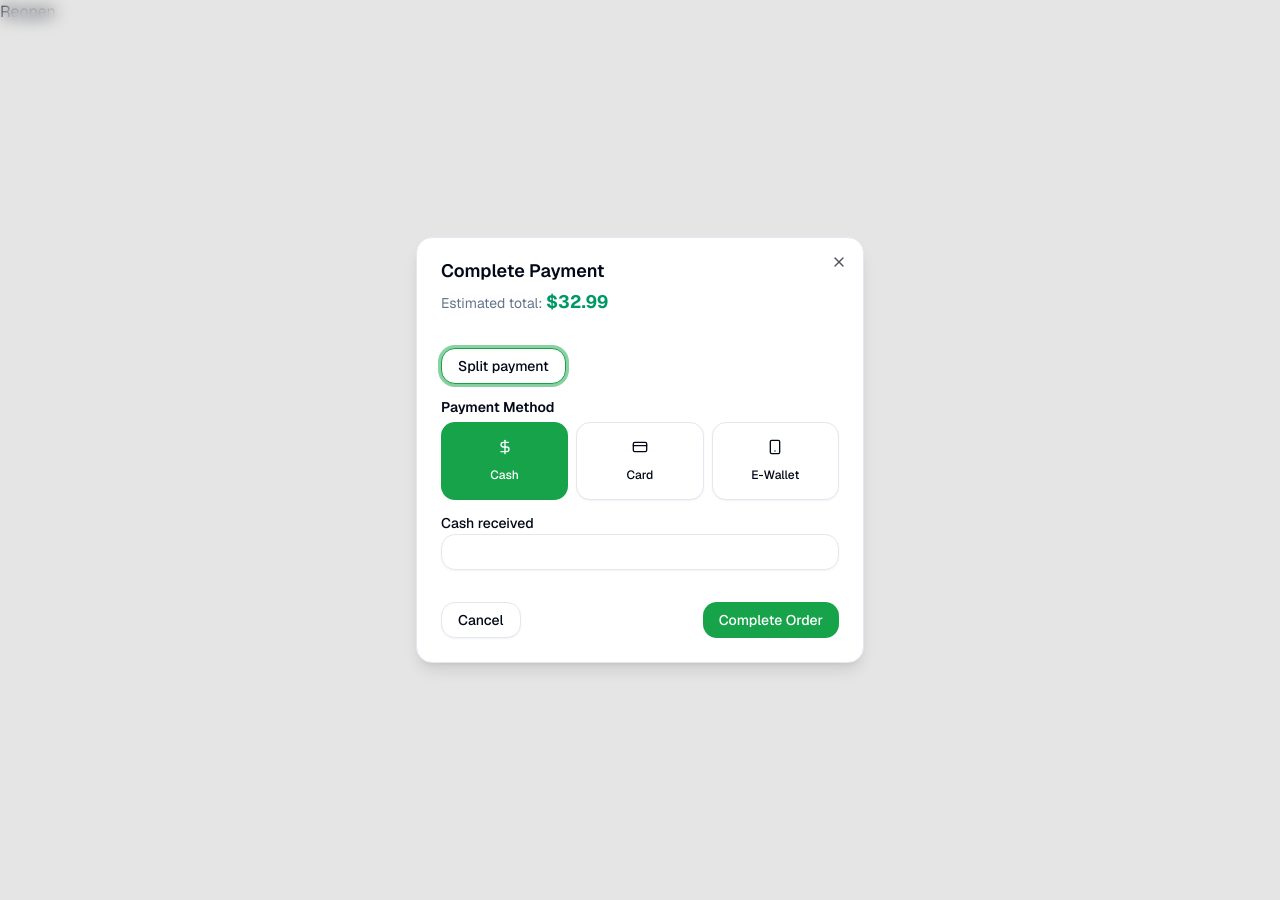
Test: PaymentDialog — split payment › changing the second method also clears received and the split amounts, like changing the first
Click the button "Split payment" at (503, 366), box [441,348,566,384]
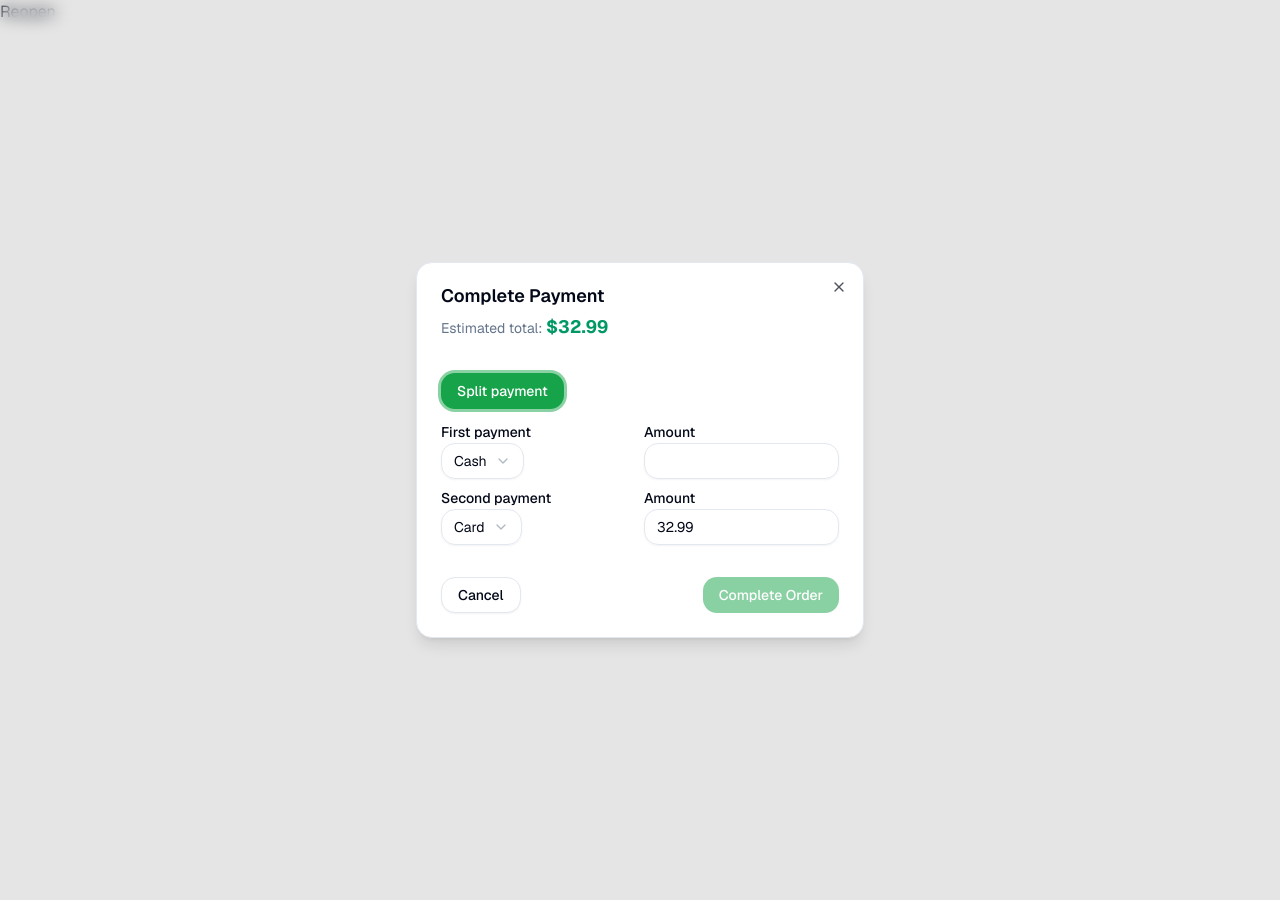
Type "10" into the field named "First payment Amount" at (742, 461), box [644,443,839,479]
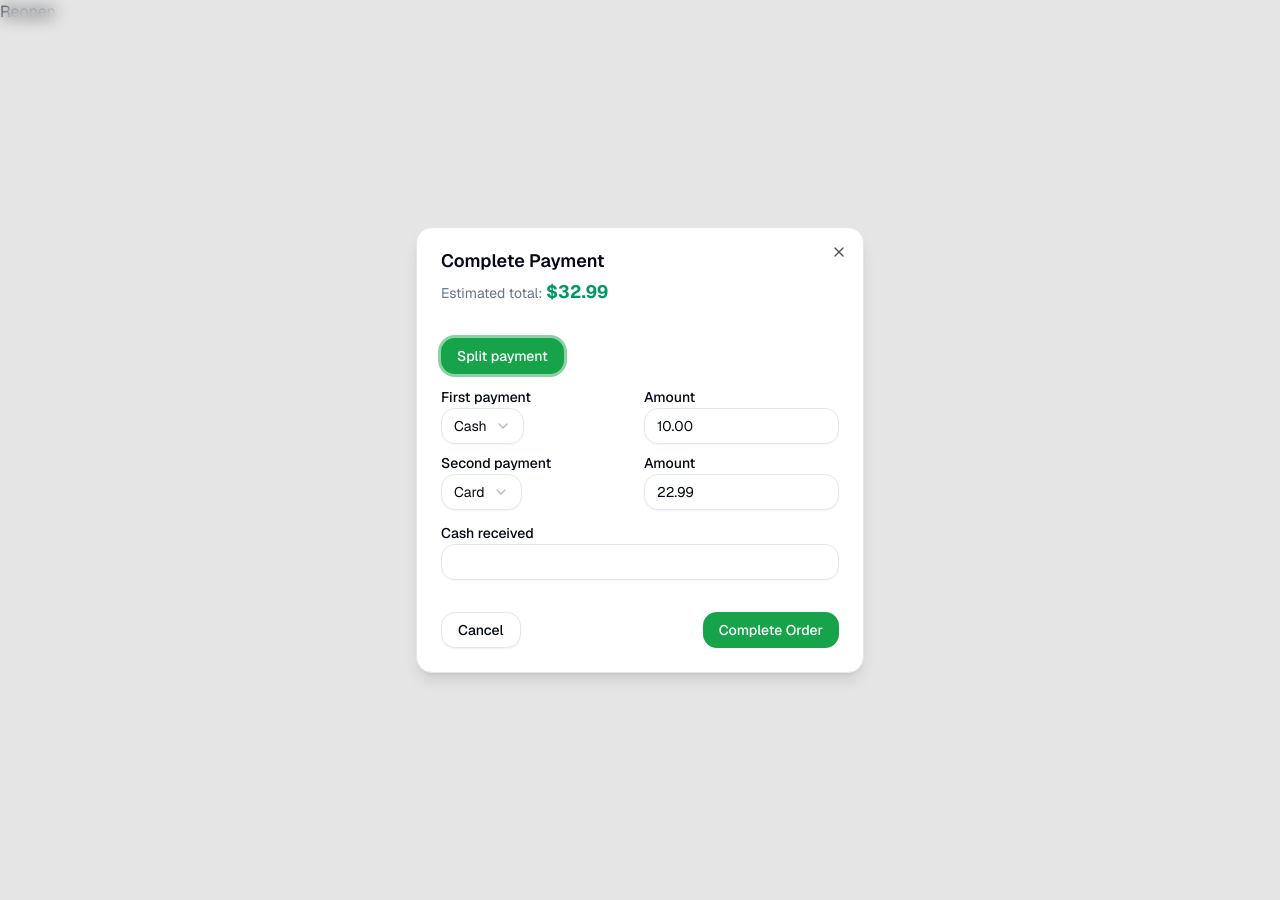
Type "50" into the field labelled "Cash received" at (640, 562), box [441,544,839,580]
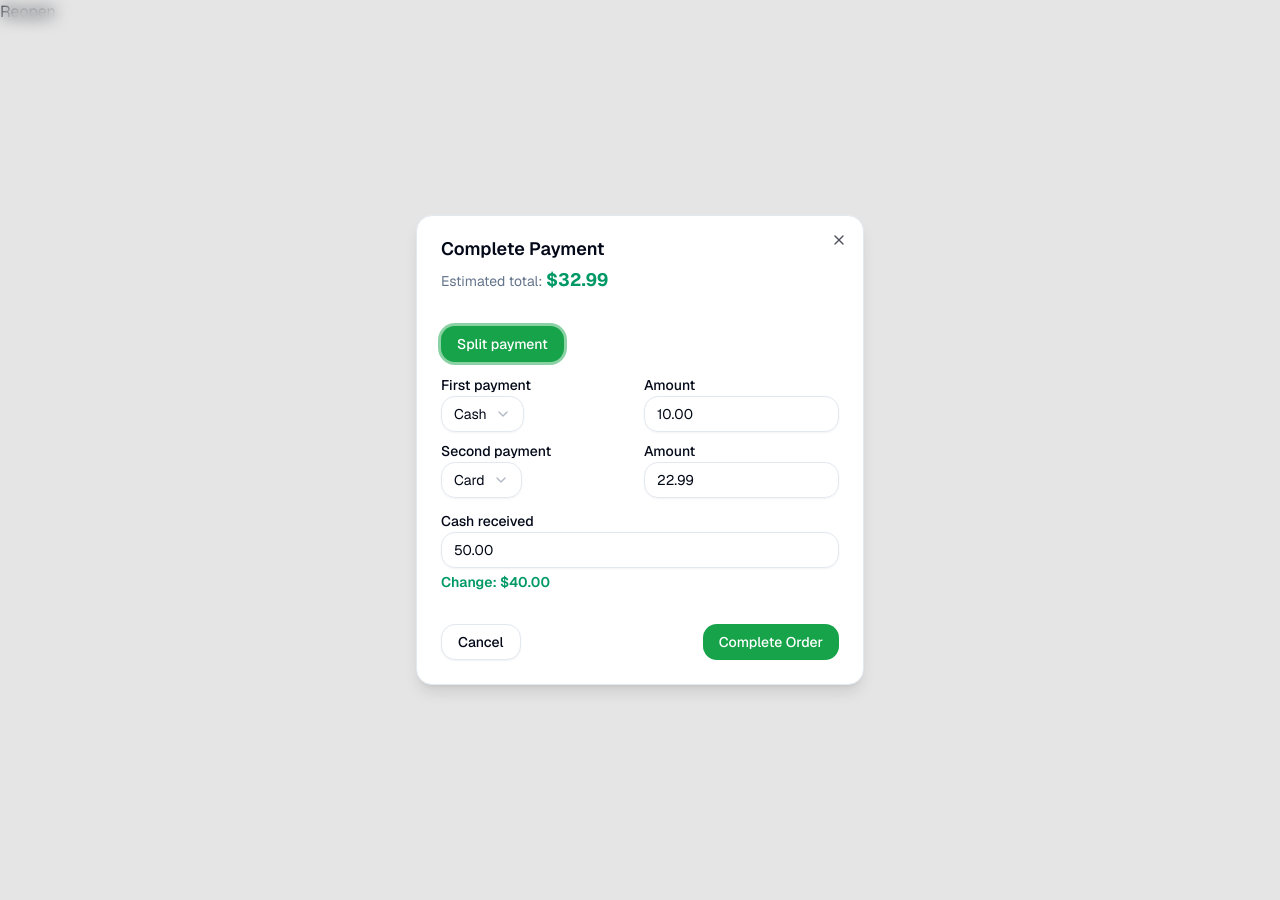
Check: the field named "First payment Amount" is not empty, box [644,396,839,432]
Check: the text "Change: $40.00" is shown, box [441,573,550,591]
Click the dropdown named "Second payment" at (481, 480), box [441,462,522,498]
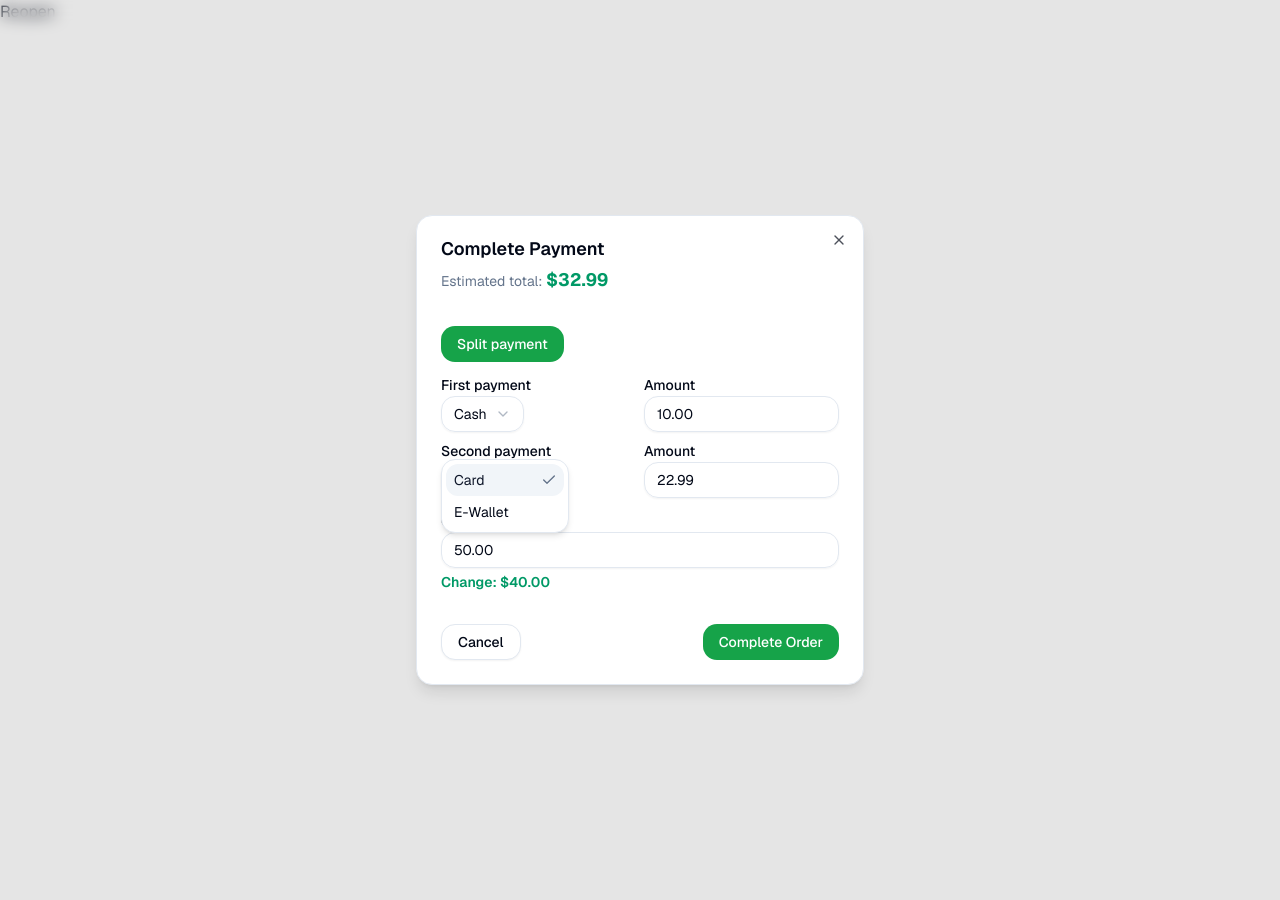
Click the option "E-Wallet" at (481, 512), box [454,503,509,521]
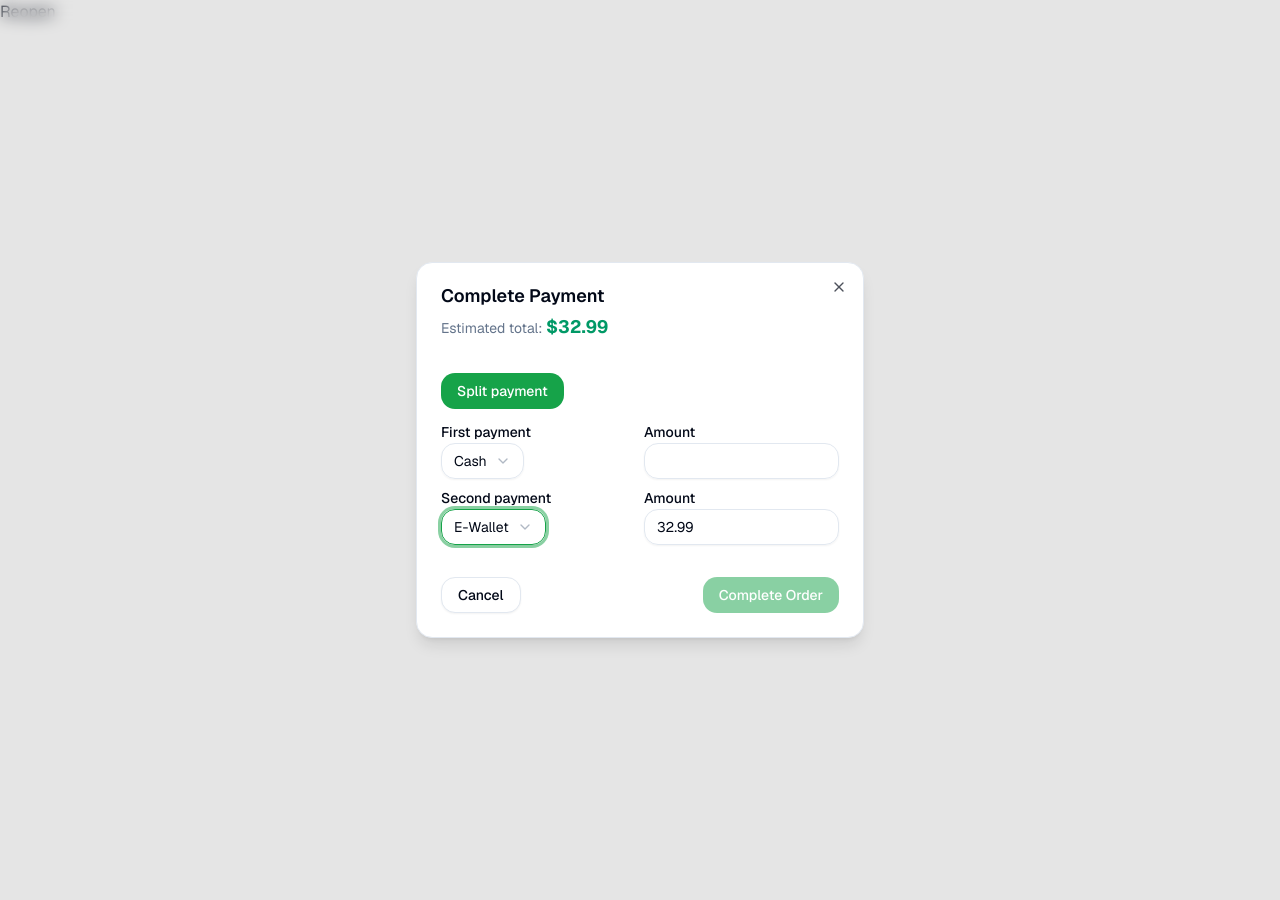
Check: the field named "First payment Amount" is empty, box [644,443,839,479]
Check: the label labelled "Cash received" is gone
